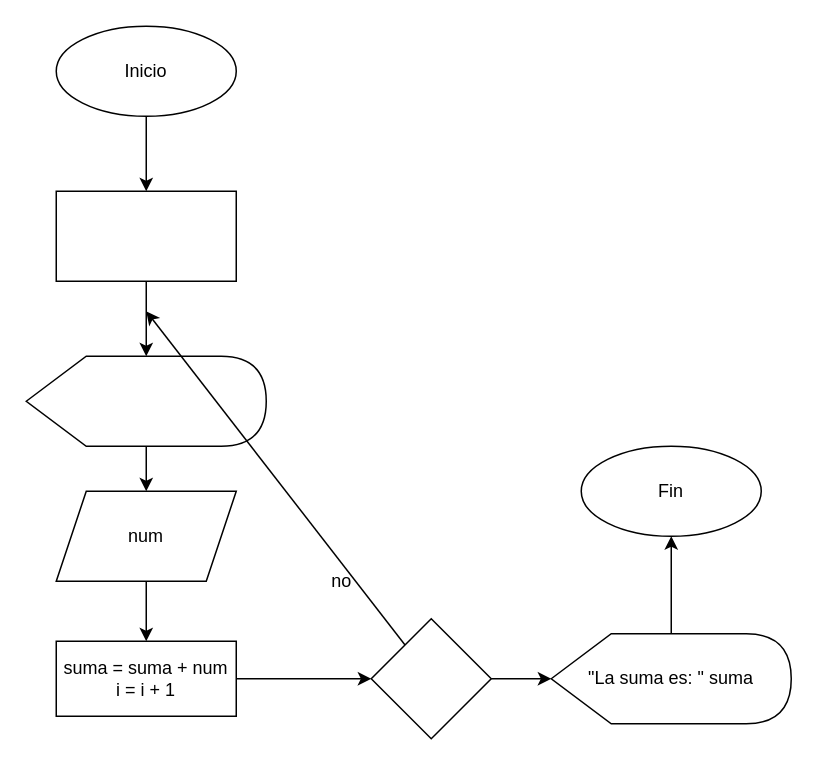
This 818x765 diagram has some shape labels left out. The shapes that lost their labels are listed below. From the top down, each one's centre as x and y in pixels, then its label:
the point at 145,235: suma = 0 i = 0 num = 0
the point at 145,400: "Introduce el numero: "
the point at 430,678: i<10
